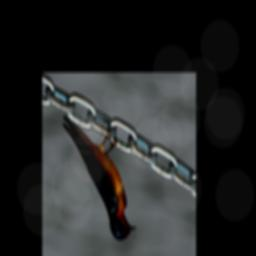Swallow: (62, 113, 137, 241)
